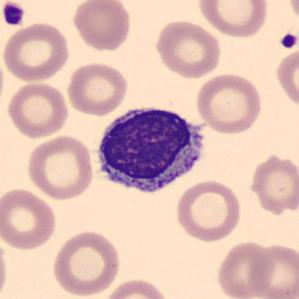Lymphocyte: (90, 99, 211, 201)
Platelets: (0, 1, 27, 28), (278, 31, 298, 50)
RBC: (50, 228, 122, 298), (24, 134, 96, 201), (173, 177, 242, 244), (194, 71, 264, 135), (1, 21, 71, 83), (153, 18, 223, 79), (5, 80, 71, 139), (0, 186, 59, 251), (64, 60, 130, 117), (214, 238, 275, 299), (70, 0, 133, 53), (247, 151, 298, 216), (195, 0, 271, 40), (247, 241, 298, 299), (102, 275, 171, 299), (273, 46, 298, 111), (0, 233, 10, 299), (0, 47, 7, 114), (285, 0, 299, 27)
